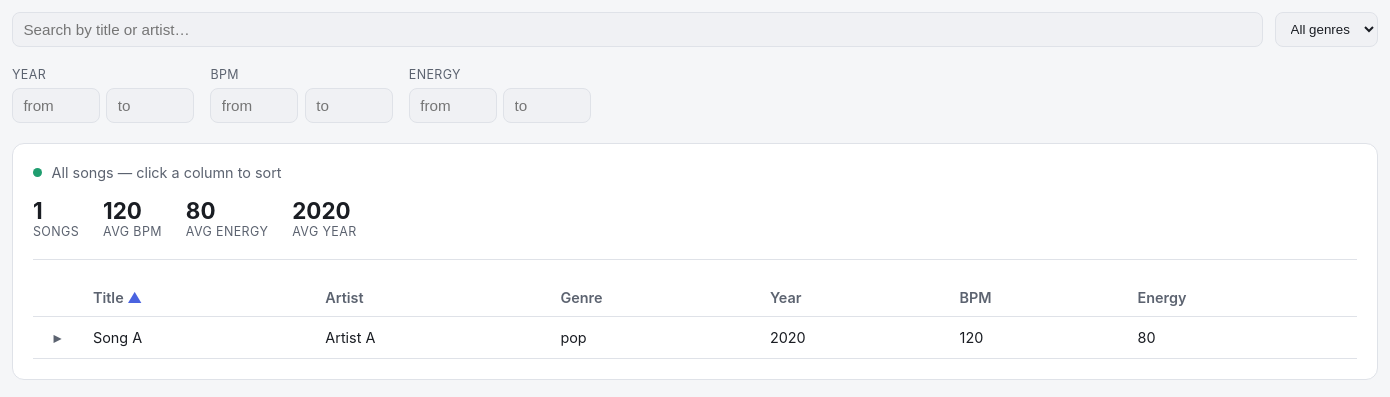
Test: BrowsePanel › shows a "clear ranges" button only once a range filter is set, and it resets all six fields
Check: the button "clear ranges" is not shown
In the number field named "minimum energy": (453, 105) [409,88,497,123], type "50"
Wait 300 ms
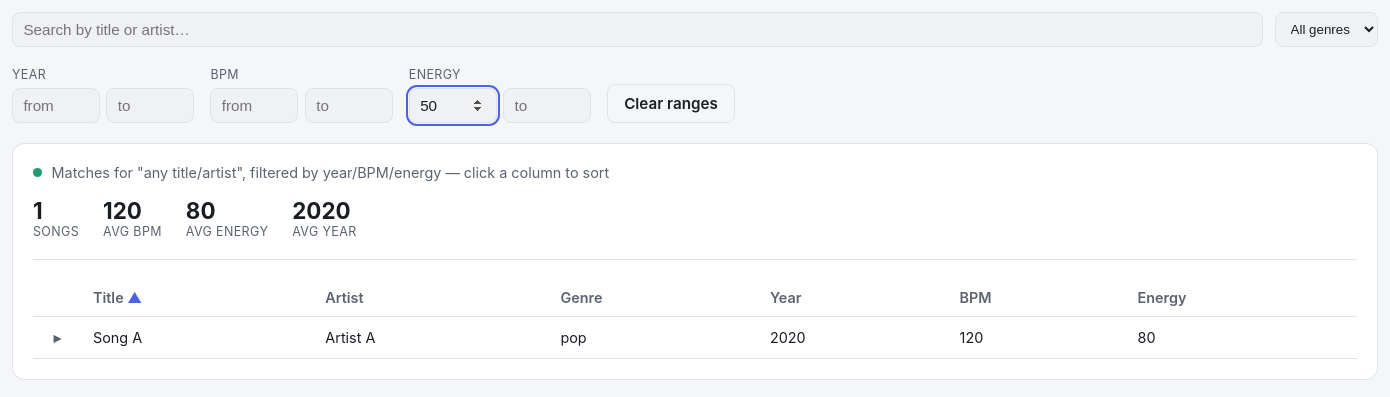
Check: the button "Clear ranges" is shown
Click the button "Clear ranges": (671, 103) [607,84,735,123]
Wait 300 ms
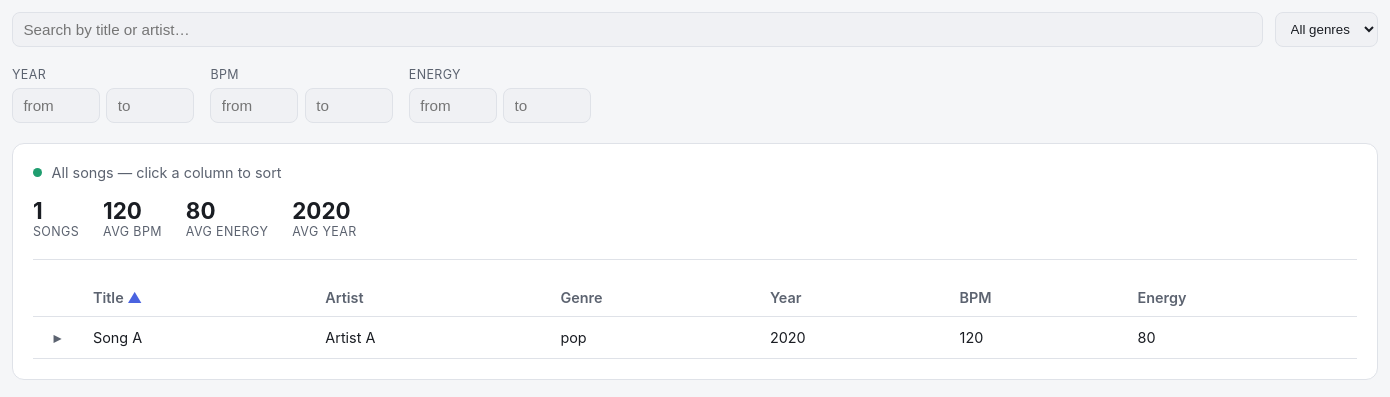
Check: the number field named "minimum energy" is not empty, box [409,88,497,123]
Check: the button "Clear ranges" is gone
